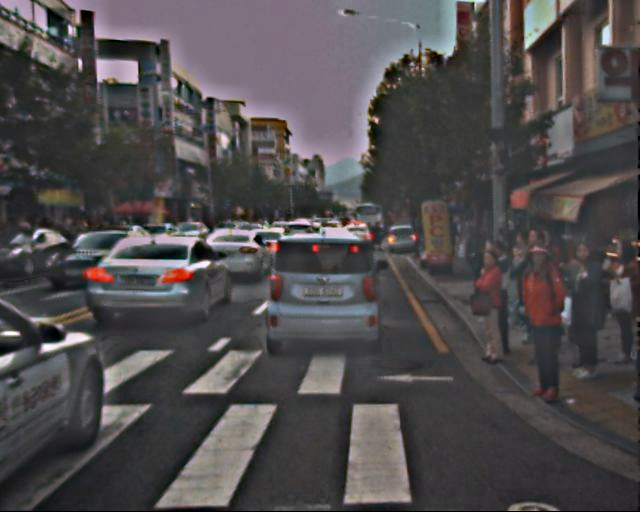person: (513, 247, 576, 400), (557, 243, 612, 376), (476, 240, 523, 354), (467, 250, 513, 363), (600, 238, 640, 363), (512, 230, 556, 338), (528, 227, 566, 320), (460, 217, 477, 259)
